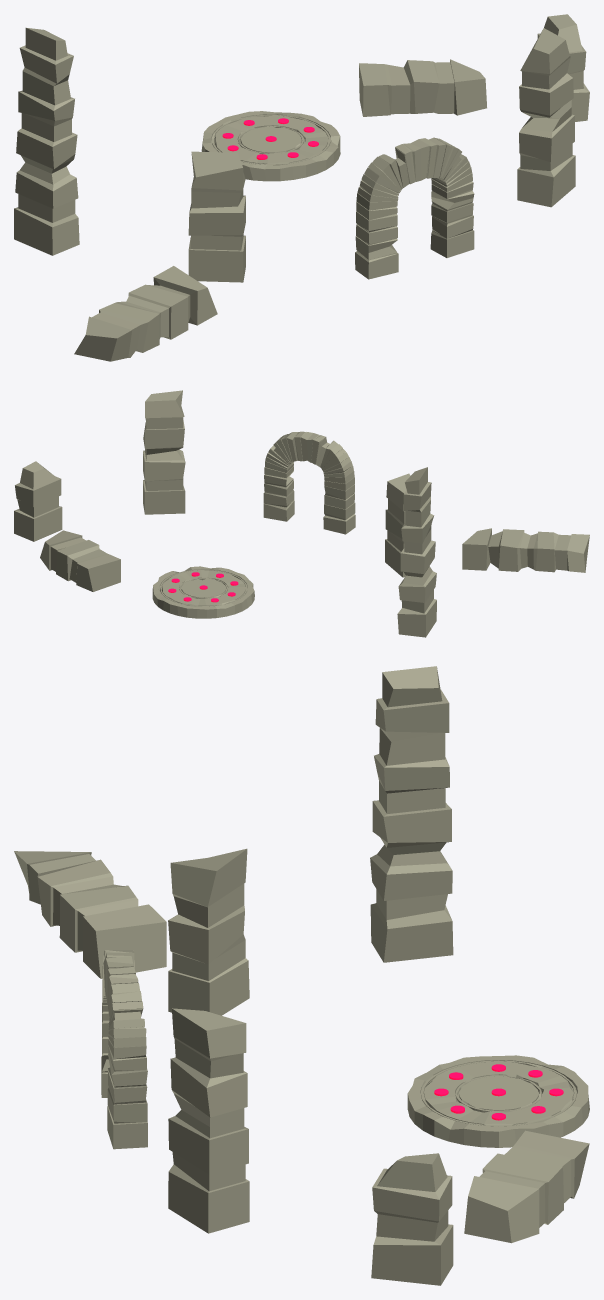
Rendered from FinalPointRuins.fbx.
3 views of the same model, one above another, from view 1: azimuth 30°, elevation 25°; view 2: azimuth 150°, elevation 25°; view 3: azimuth 270°, elevation 25° (orthographic). The views are drawn at different scales.
Visible parts, largest first — view 1: Cube.001, Cube, Cylinder; view 2: Cube.001, Cube, Cylinder; view 3: Cube.001, Cylinder, Cube.
Boxes of the visible parts, <box> form: Cube.001: <box>14,14,589,361</box>; Cube: <box>355,137,474,279</box>; Cylinder: <box>201,111,340,181</box>; Cube.001: <box>14,390,589,637</box>; Cube: <box>263,431,355,534</box>; Cylinder: <box>152,566,254,618</box>; Cube.001: <box>14,666,589,1285</box>; Cylinder: <box>407,1055,589,1147</box>; Cube: <box>101,950,147,1149</box>.
Size of the model in its own units: 26.81 by 8.46 by 16.03.
